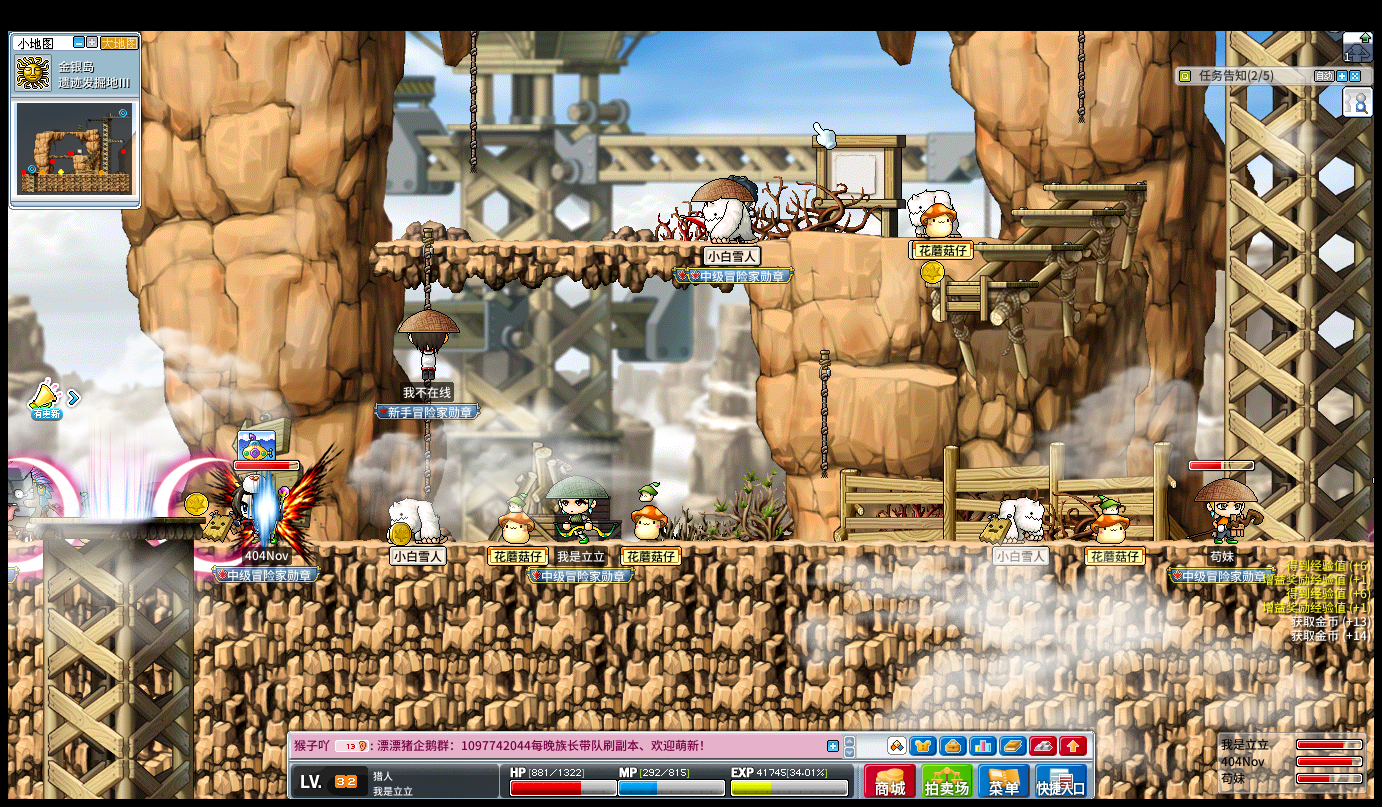floor: (371, 238, 745, 248), (849, 364, 958, 384), (26, 513, 205, 522), (28, 515, 204, 524), (865, 233, 1006, 241), (920, 279, 1036, 288), (967, 242, 1082, 250), (1007, 206, 1120, 214), (1043, 184, 1145, 192)
monster: (4, 471, 51, 526)
rope: (817, 351, 830, 481), (1075, 30, 1088, 120), (469, 30, 477, 176), (419, 228, 432, 309), (1075, 30, 1084, 121), (422, 423, 430, 501)
